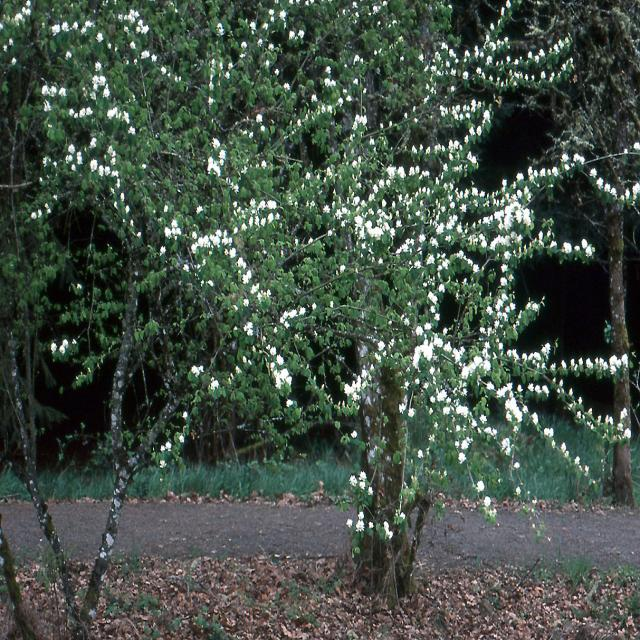Amelanchier alnifolia: (161, 0, 636, 583), (0, 7, 310, 616)
